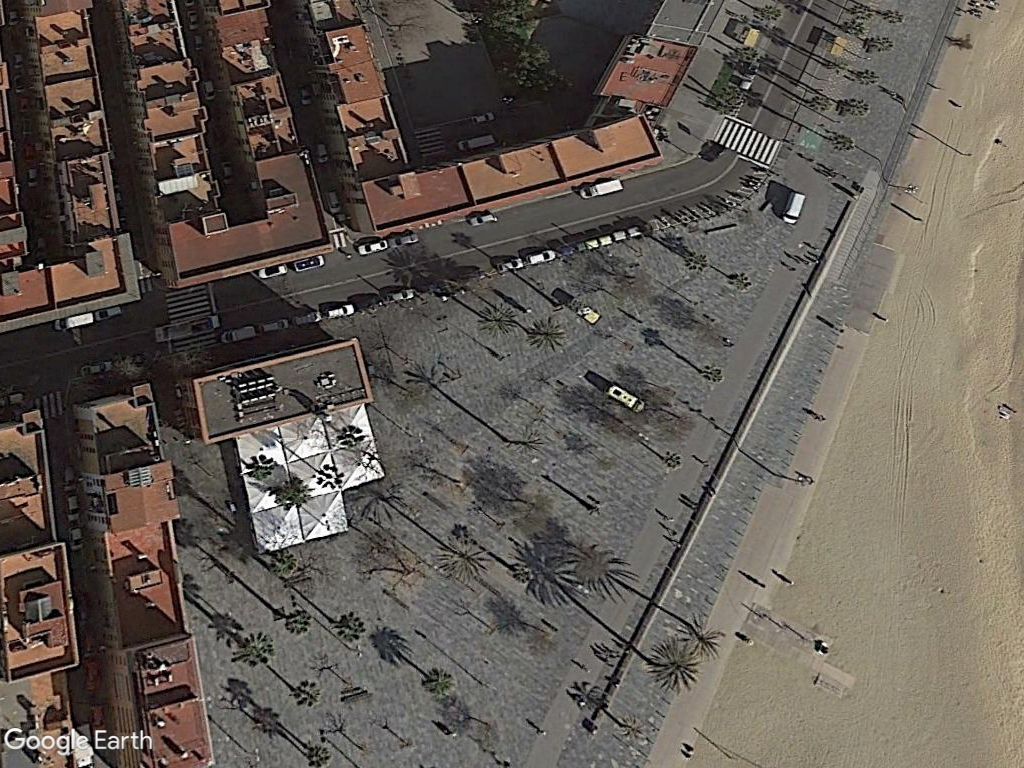car: (349, 237, 392, 256), (323, 303, 359, 320)
truck: (571, 176, 629, 203), (779, 185, 808, 232)
